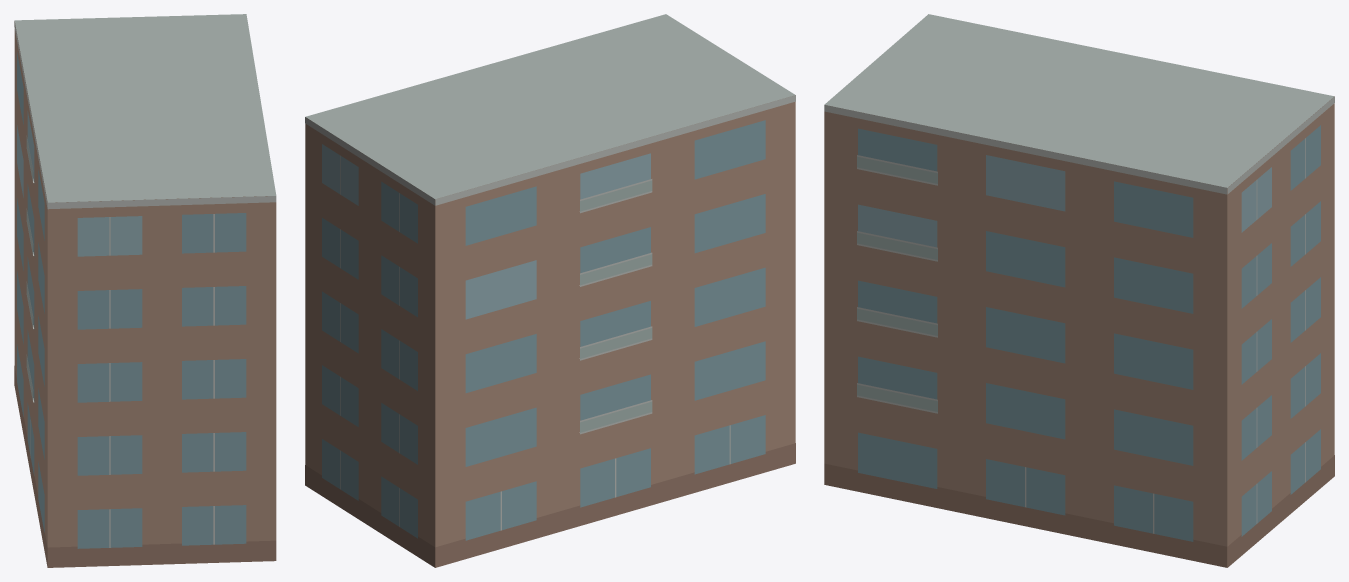
The model's file is survey-upis-32890214.glb.
3 views of the same model, side by side, from view 1: azimuth 30°, elevation 25°; view 2: azimuth 150°, elevation 25°; view 3: azimuth 270°, elevation 25° (orthographic). The views are drawn at different scales.
Visible parts, largest first — view 1: survey-upis-32890214.tmp; view 2: survey-upis-32890214.tmp; view 3: survey-upis-32890214.tmp.
Boxes of the visible parts, x1,y1,x2,y2 form: survey-upis-32890214.tmp: [14, 14, 276, 567]; survey-upis-32890214.tmp: [305, 14, 795, 567]; survey-upis-32890214.tmp: [824, 14, 1334, 567].
Bounding box in the file's own units: 13.45 × 13.7 × 16.69.
